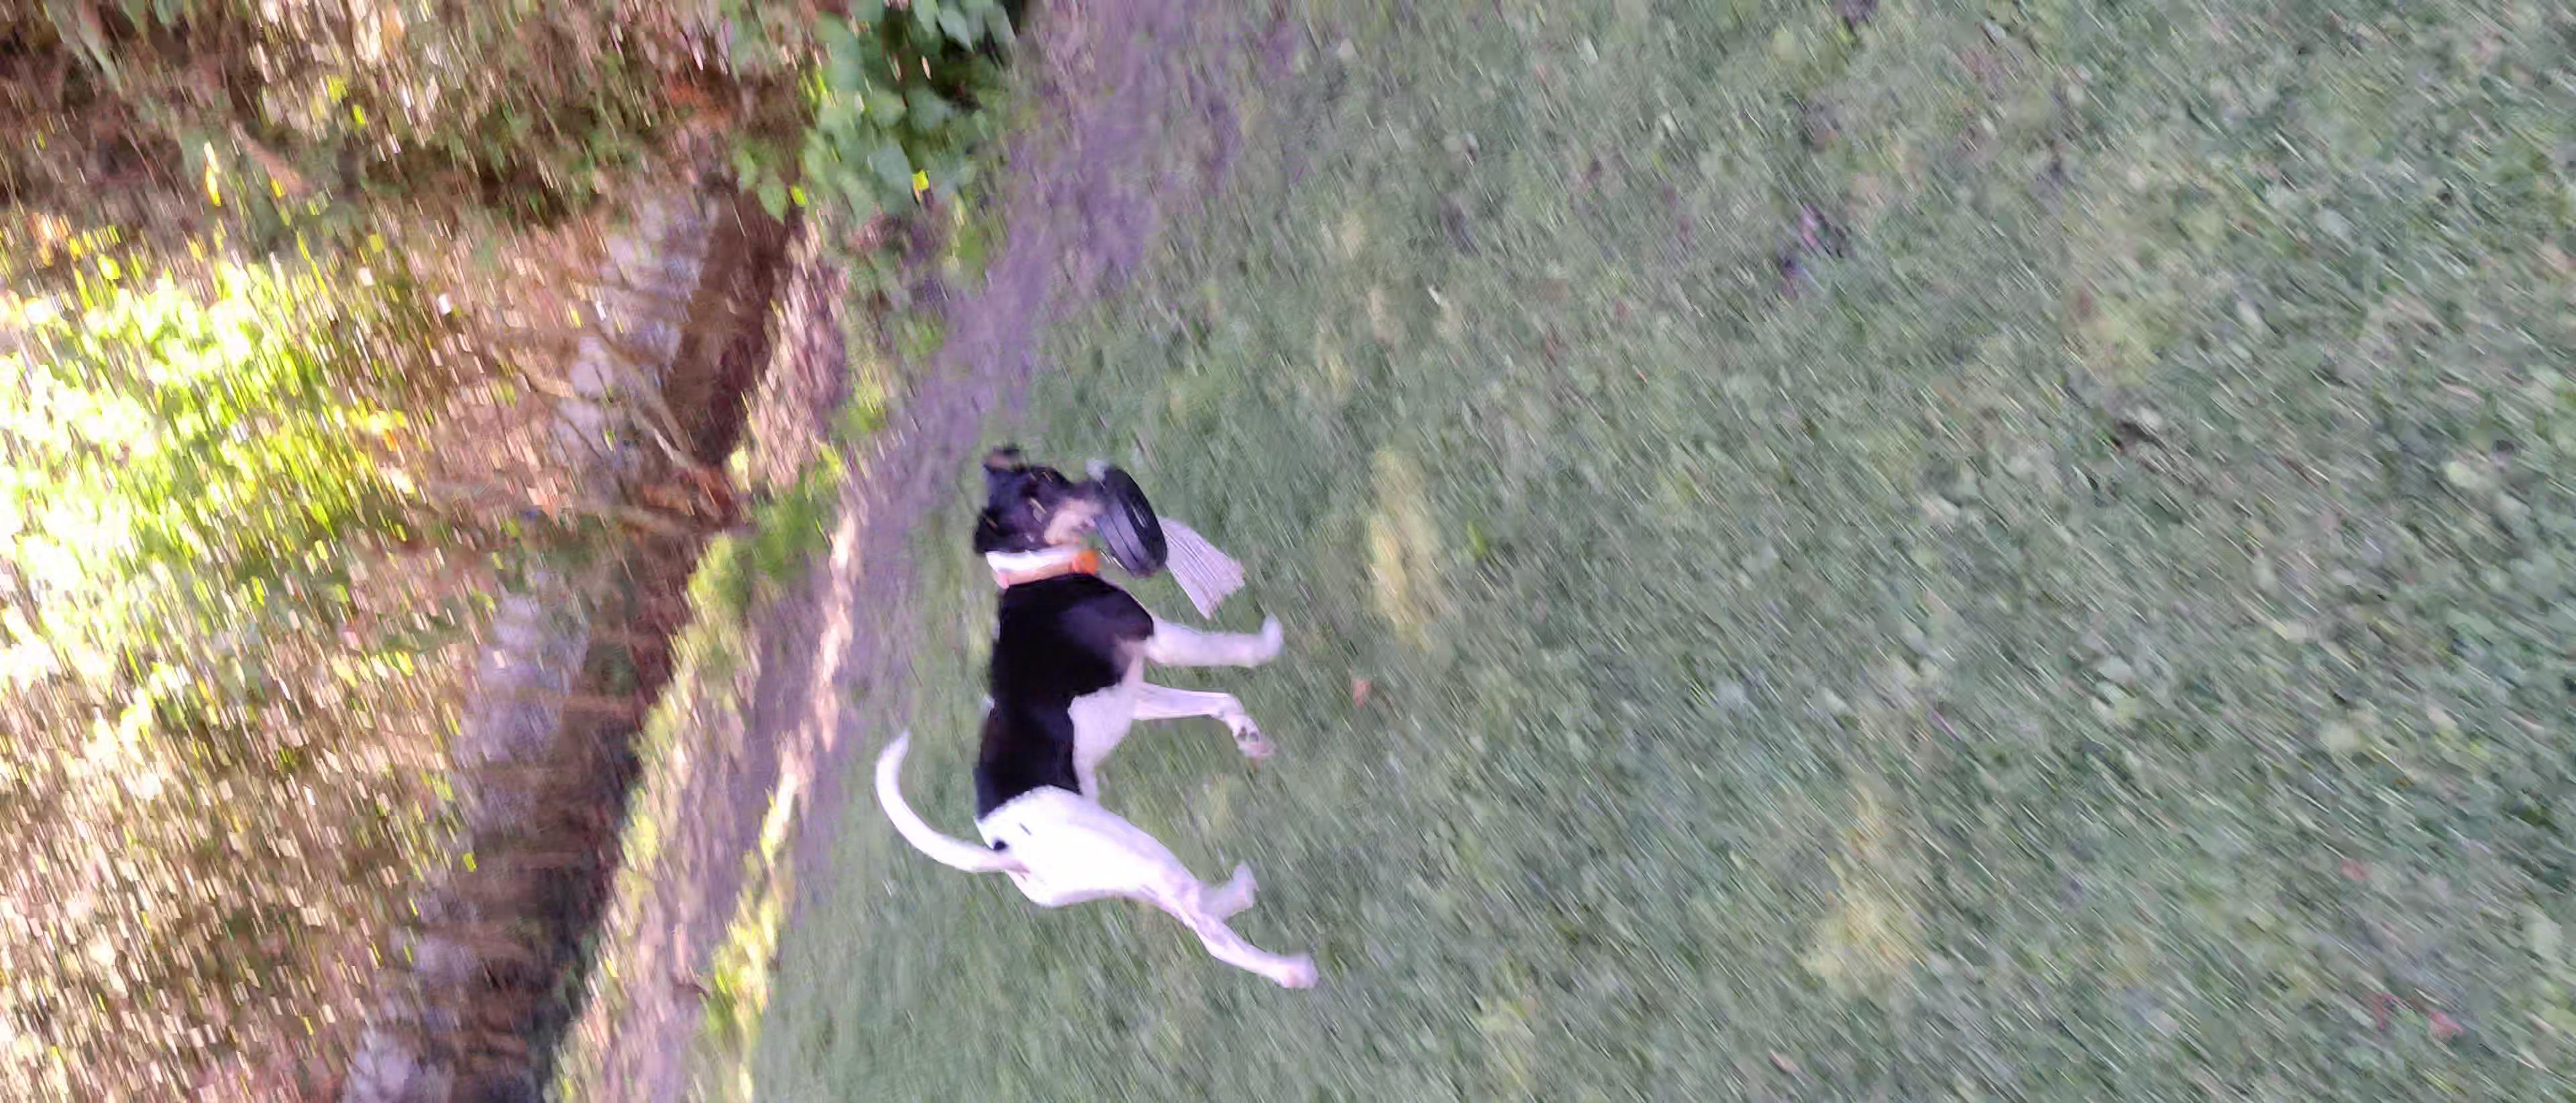Dog: (862, 409, 1331, 1009)
